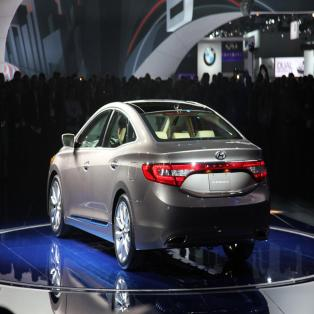Auto: (46, 99, 270, 270)
